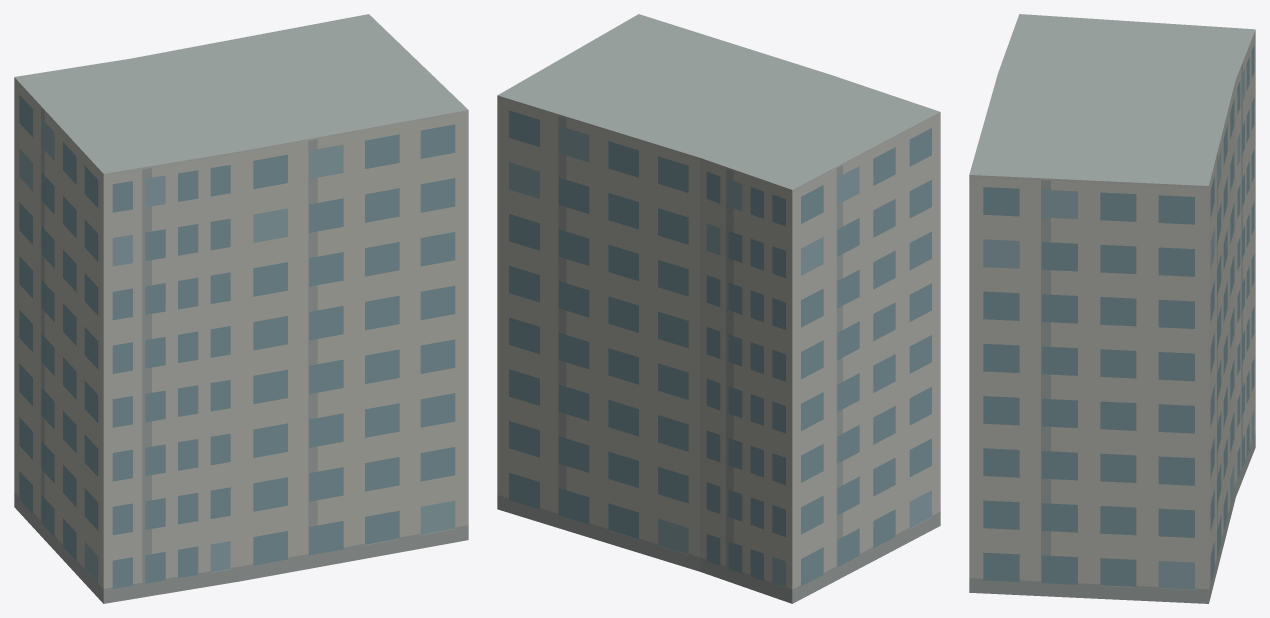
File: residential-99323de9-f712-4f85-9cde-f85032645402.glb
3 renders of one model, left to right at view 1: azimuth 30°, elevation 25°; view 2: azimuth 150°, elevation 25°; view 3: azimuth 270°, elevation 25°, orthographic. The views are drawn at different scales.
Visible parts, largest first — view 1: residential-99323de9-f712-4f85-9cde-f85032645402.tmp; view 2: residential-99323de9-f712-4f85-9cde-f85032645402.tmp; view 3: residential-99323de9-f712-4f85-9cde-f85032645402.tmp.
Part boxes in pixels (x1,y1,x2,y2): residential-99323de9-f712-4f85-9cde-f85032645402.tmp: [14, 14, 468, 603]; residential-99323de9-f712-4f85-9cde-f85032645402.tmp: [497, 14, 940, 603]; residential-99323de9-f712-4f85-9cde-f85032645402.tmp: [969, 14, 1255, 603].
Bounding box in the file's own units: 48.57 × 55 × 34.19.
